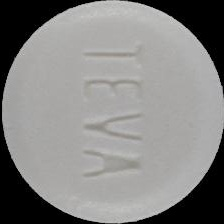61786-377: (0, 0, 224, 224)
